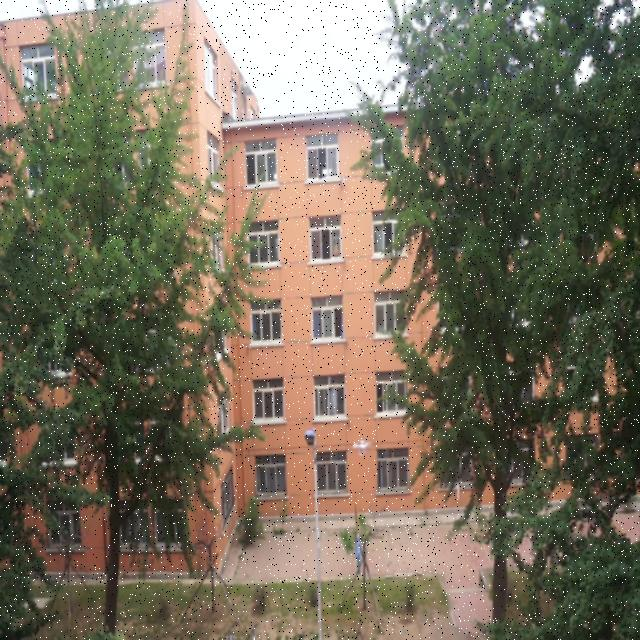UAV: (352, 440, 372, 456)
